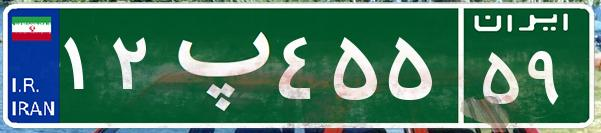1: (57, 26, 110, 107)
2: (110, 28, 158, 105)
4: (273, 28, 330, 110)
5: (385, 28, 445, 110), (330, 28, 385, 110), (475, 38, 525, 113)
9: (525, 38, 570, 115)
پ: (158, 15, 273, 115)
